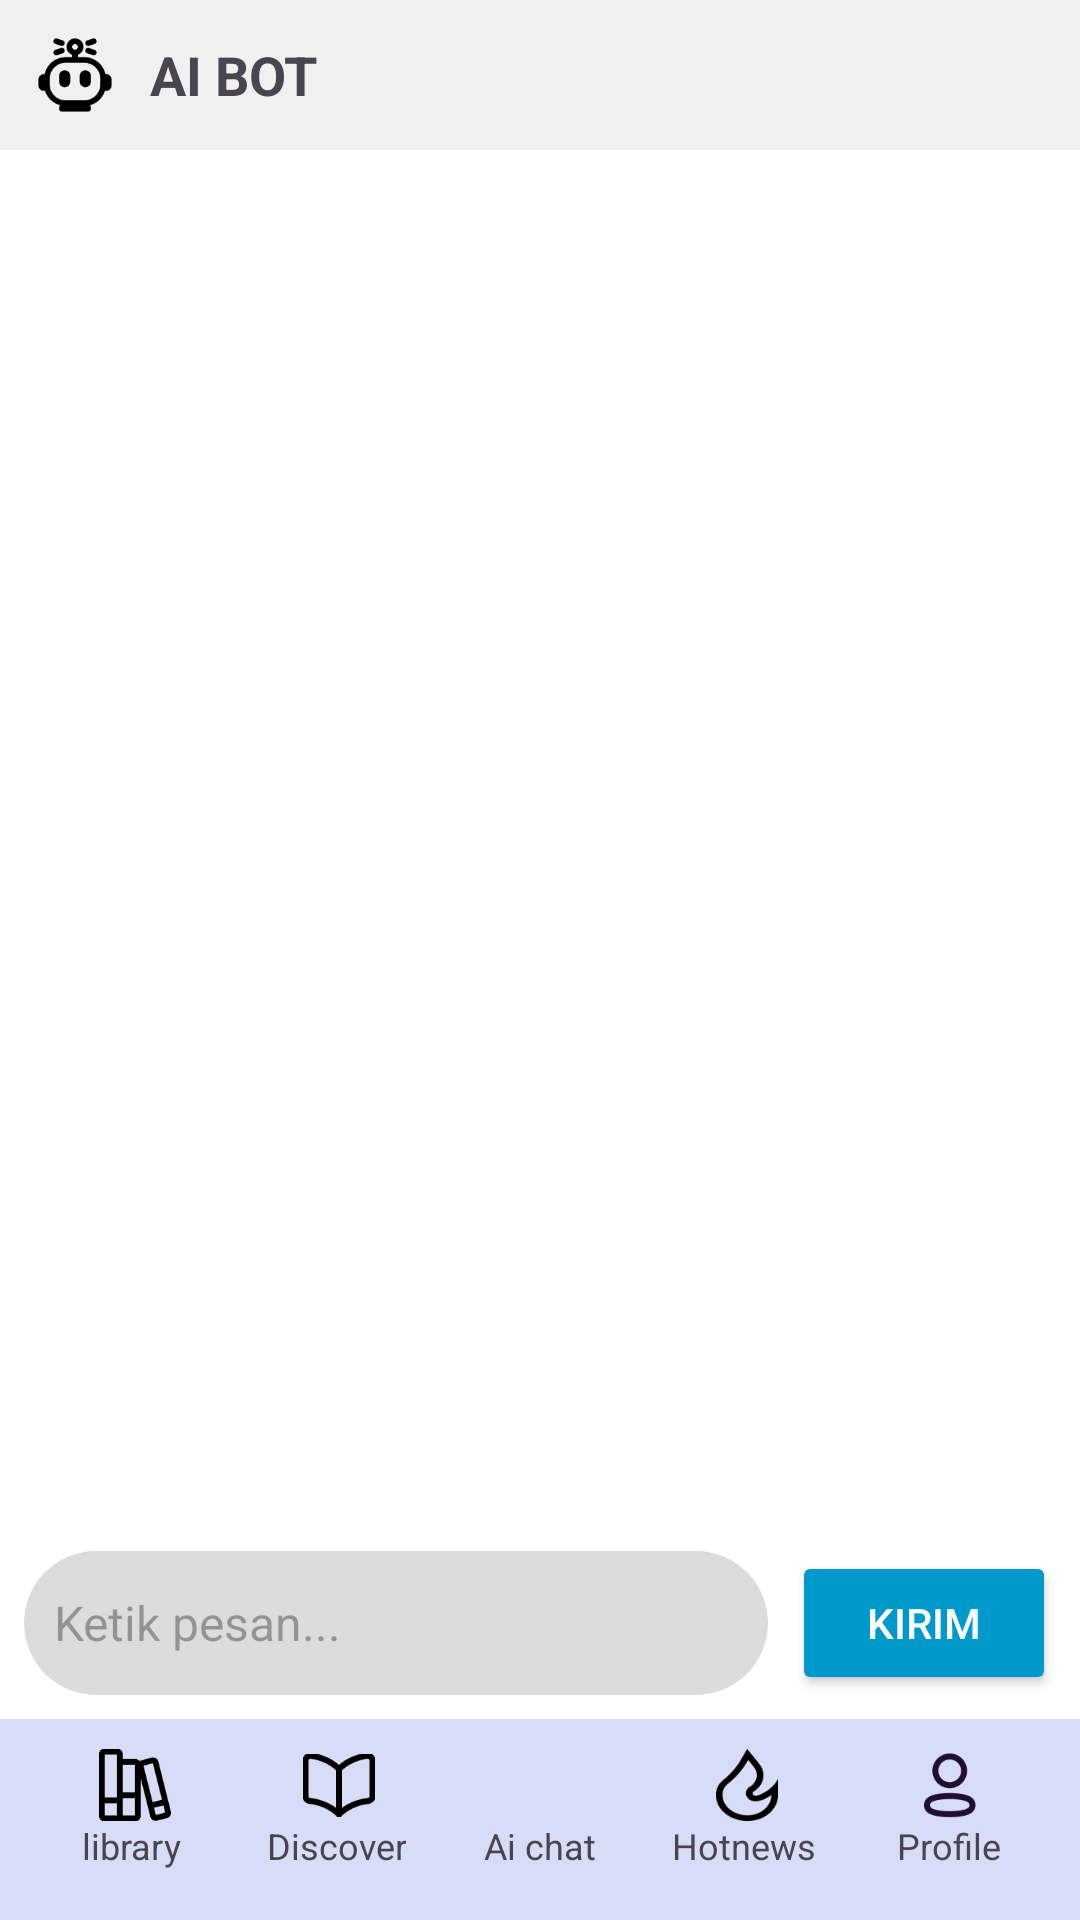

Icon click points for this 1080*1920 phone screenshot, format (x=x, y=y):
iconbotai: (x=75, y=75)
iconflame: (x=747, y=1785)
